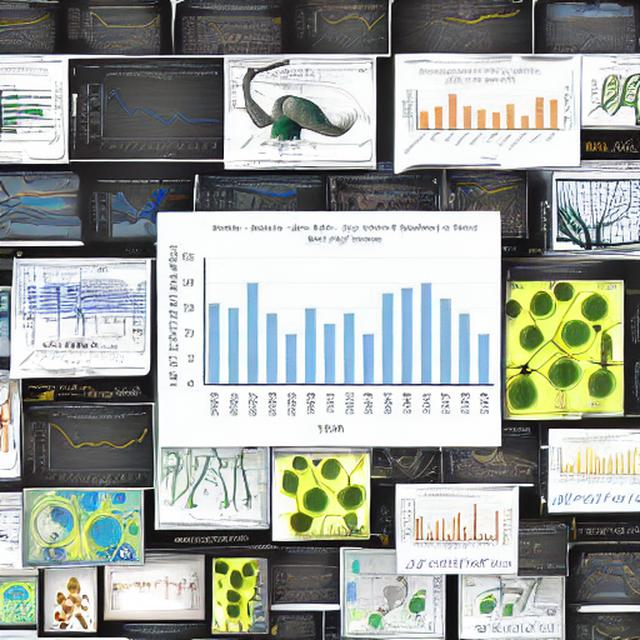Graph: (159, 220, 497, 441), (396, 65, 563, 162), (84, 70, 224, 159), (31, 410, 153, 488), (399, 492, 501, 552), (306, 4, 389, 54), (551, 437, 624, 488), (272, 562, 339, 602)
